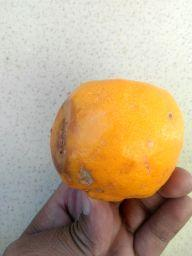Unripe: (51, 82, 181, 204)
